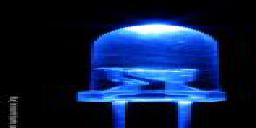LED: (75, 20, 230, 128)
